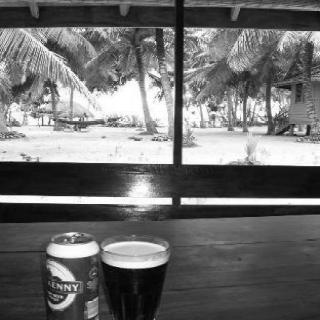alumunium_can: (44, 233, 100, 320)
objects: (99, 233, 172, 320)
